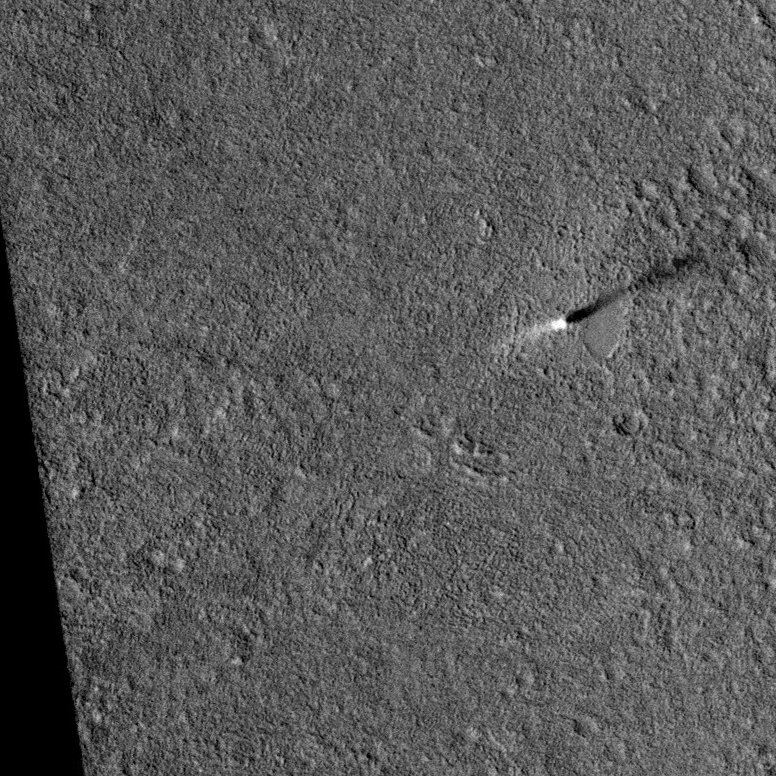dust_devil: (493, 253, 692, 356)
